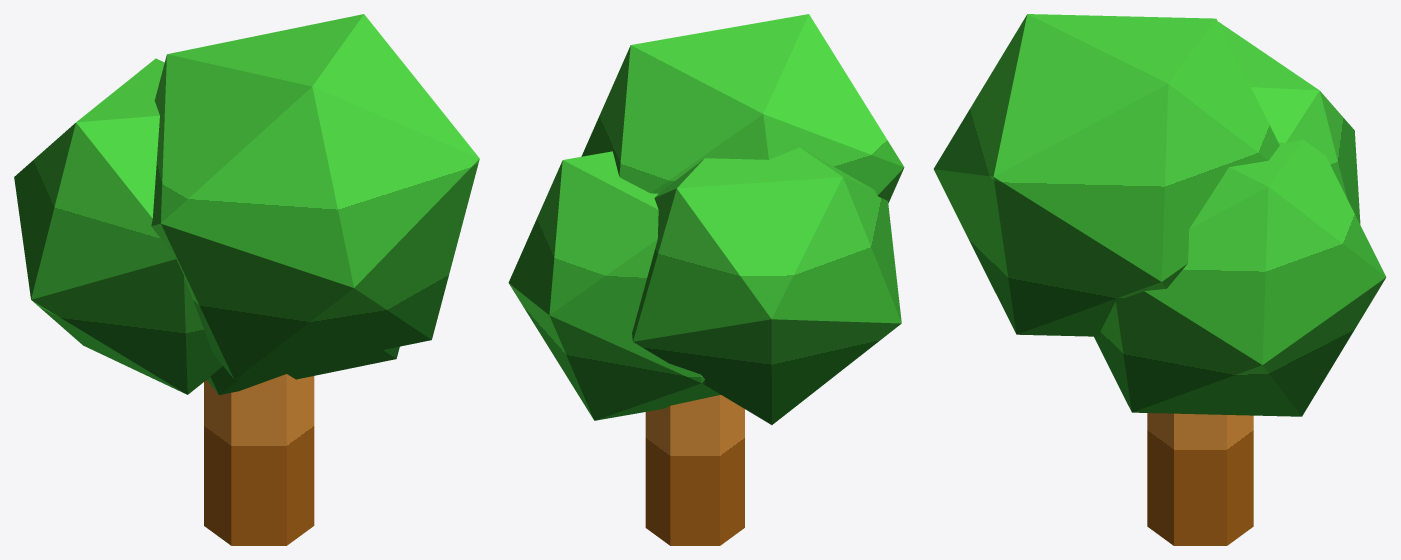
The model's file is OakTree1.fbx.
3 views of the same model, side by side, from view 1: azimuth 30°, elevation 25°; view 2: azimuth 150°, elevation 25°; view 3: azimuth 270°, elevation 25° (orthographic). The views are drawn at different scales.
Visible parts, largest first — view 1: OakTree1; view 2: OakTree1; view 3: OakTree1.
Part boxes in pixels (box(x1,y1,x2,y2)): OakTree1: box(14, 14, 479, 545); OakTree1: box(508, 14, 904, 545); OakTree1: box(933, 14, 1386, 545).
Bounding box in the file's own units: 87.67 × 107 × 88.32.
